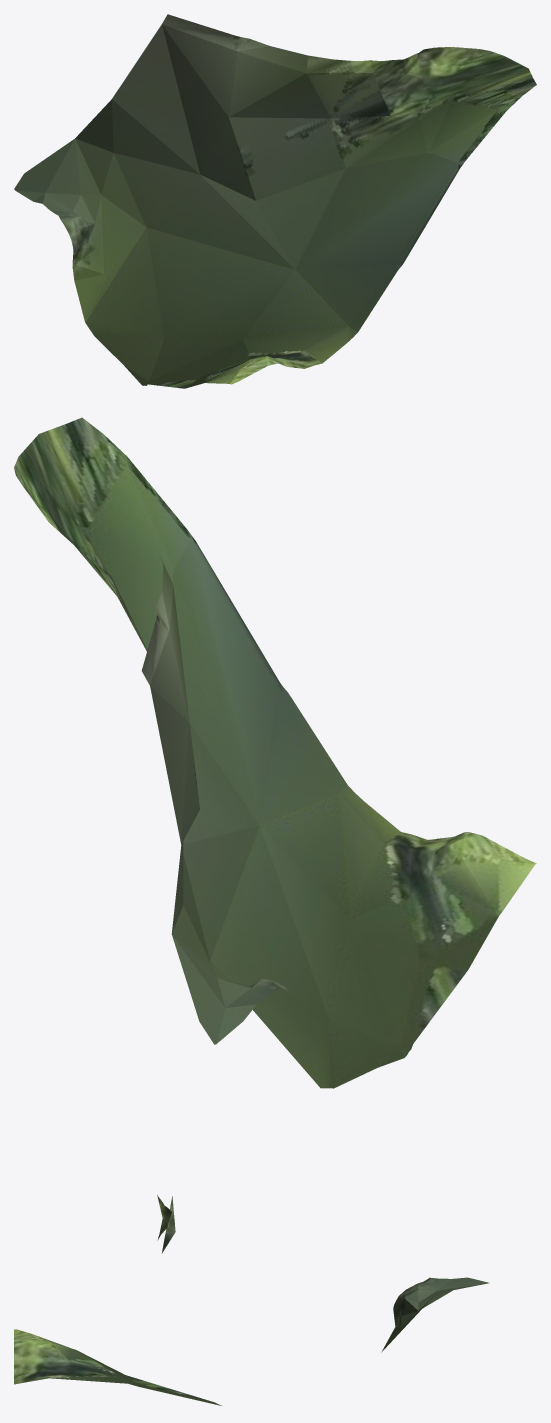
3 views of the same model, one above another, from view 1: azimuth 30°, elevation 25°; view 2: azimuth 150°, elevation 25°; view 3: azimuth 270°, elevation 25° (orthographic). The views are drawn at different scales.
Size of the model in its own units: 21.98 by 19.32 by 26.11.
Materials: 2 (2 with a texture image).
